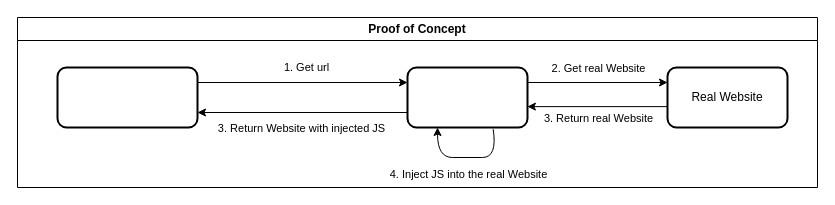
Image size: 835x205. Some labels were removed from this diagram. Here are the shapes that lost their labels. From the top down, the box of each, then its label:
(56, 66, 198, 128): Client Requesting a Webpage
(406, 66, 528, 128): Man-In-The-Middle Proxy
